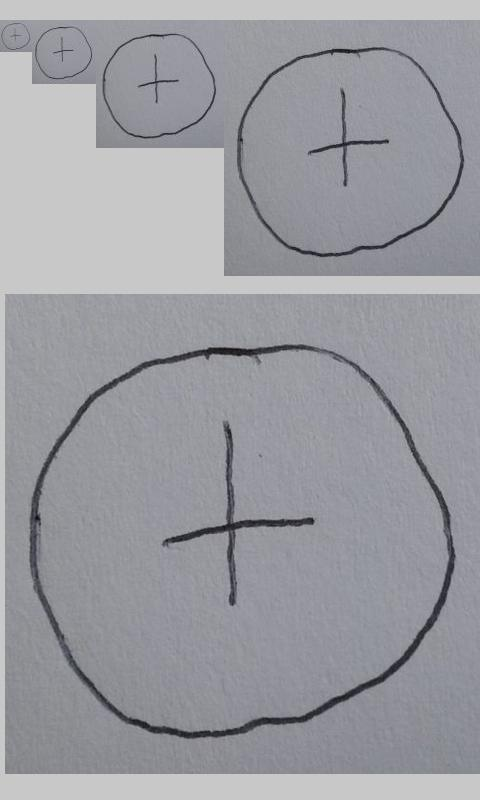button: (28, 340, 456, 741), (235, 45, 465, 259), (102, 33, 218, 139), (35, 26, 93, 80), (1, 22, 31, 50)
